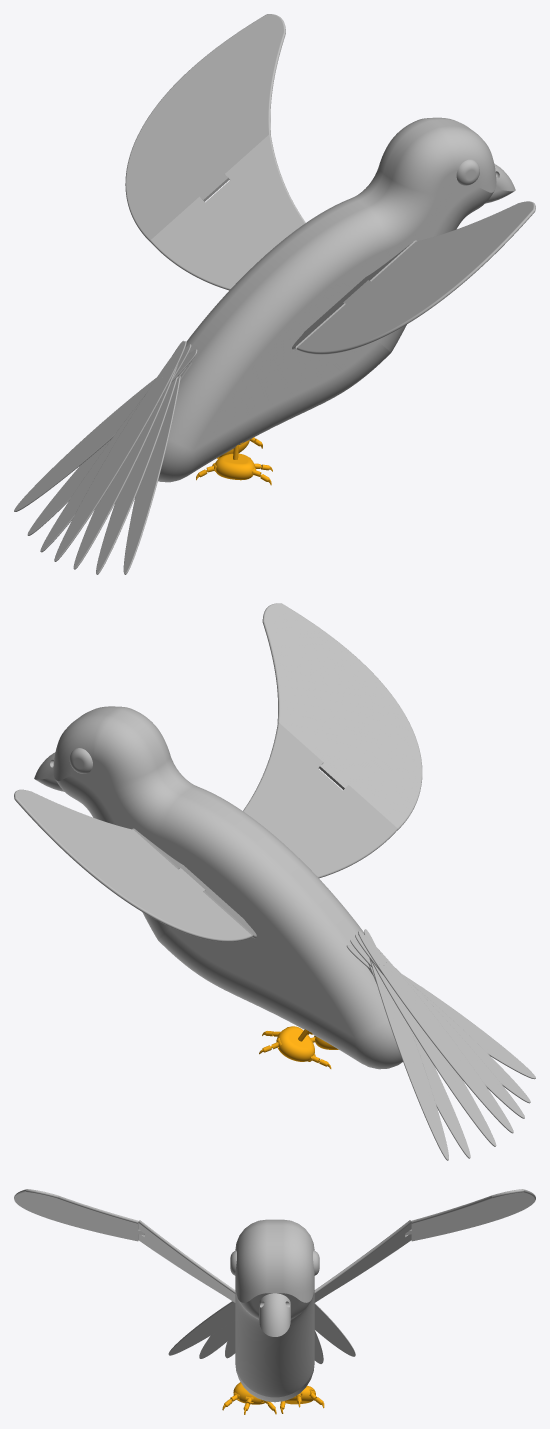
The model's file is example.glb.
The picture shows the model from 3 angles, top to bottom: view 1: azimuth 30°, elevation 25°; view 2: azimuth 150°, elevation 25°; view 3: azimuth 270°, elevation 25°; orthographic projection. The views are drawn at different scales.
Bounding box in the file's own units: 0.3168 × 0.2316 × 0.3279.
